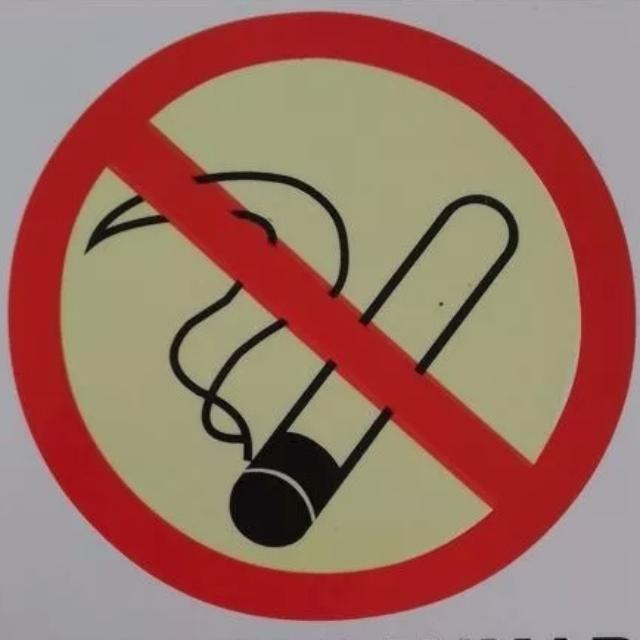cam hut thuoc: (9, 13, 633, 618)
